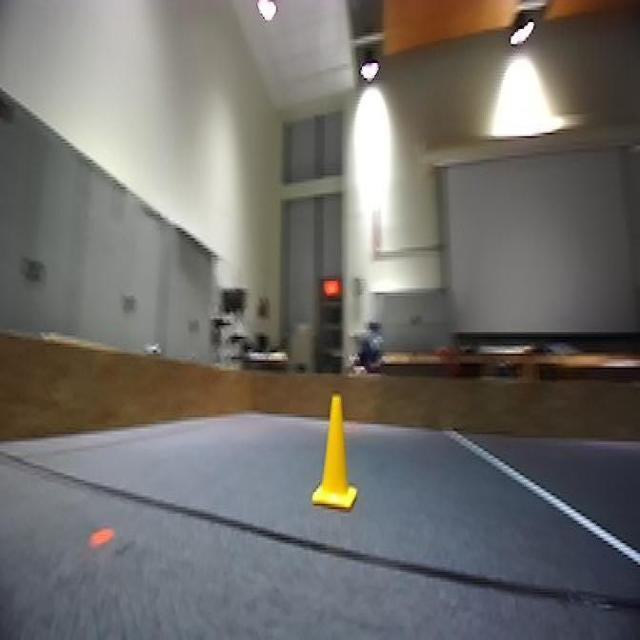frc_cone: (315, 395, 363, 517)
